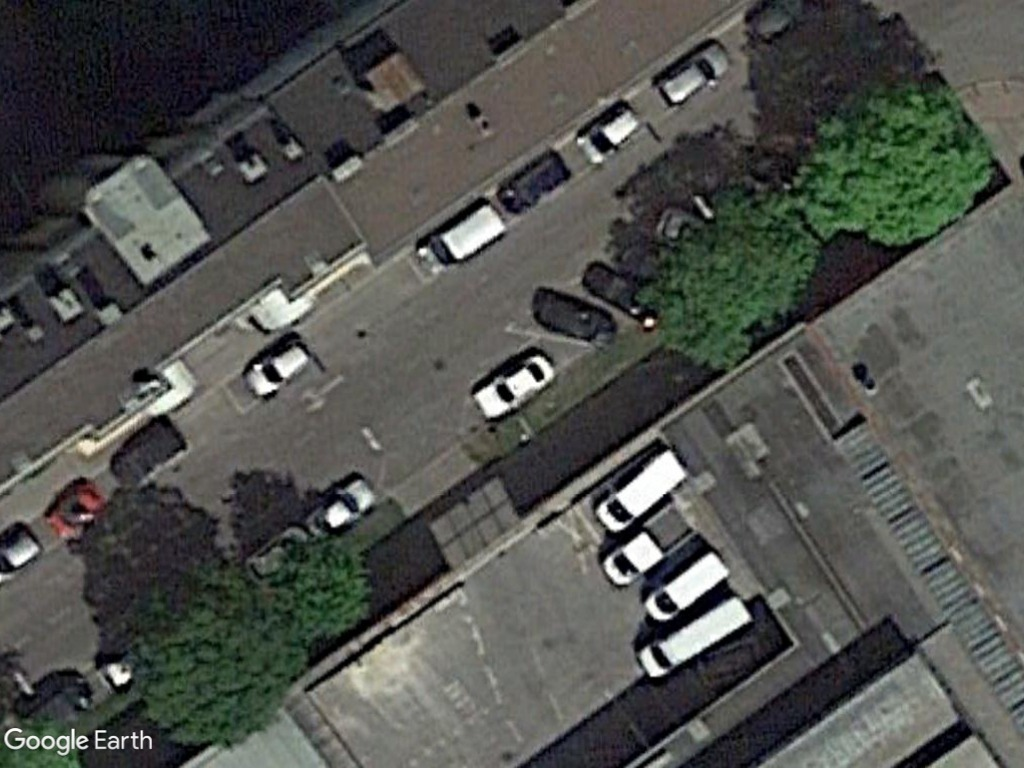car: (467, 346, 558, 428), (298, 469, 381, 547), (649, 36, 732, 113), (237, 330, 314, 408), (572, 95, 649, 166)
van: (632, 589, 755, 685), (591, 441, 688, 539), (407, 195, 509, 281), (639, 543, 738, 628)
